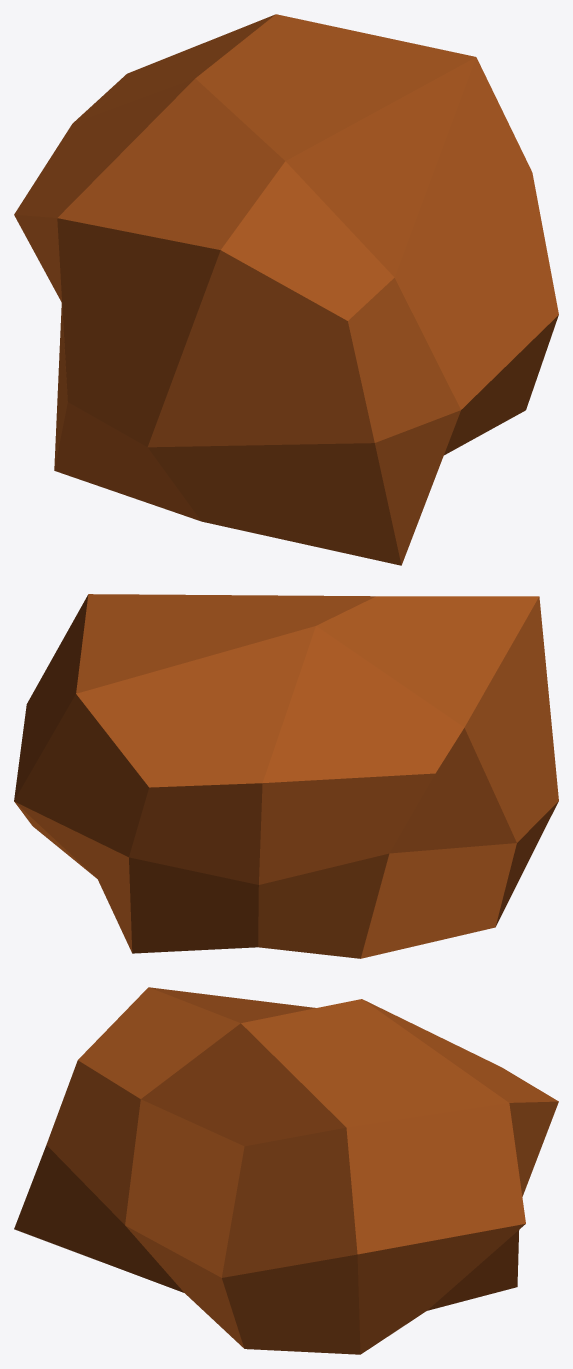
Rendered from Stone02.FBX.
3 renders of one model, top to bottom at view 1: azimuth 30°, elevation 25°; view 2: azimuth 150°, elevation 25°; view 3: azimuth 270°, elevation 25°, orthographic. The views are drawn at different scales.
Visible parts, largest first — view 1: Box001; view 2: Box001; view 3: Box001.
Boxes of the visible parts, box(x1,y1,x2,y2) form: Box001: box(14, 14, 558, 565); Box001: box(14, 594, 558, 958); Box001: box(14, 987, 558, 1354).
Bounding box in the file's own units: 125 × 78.29 × 151.
